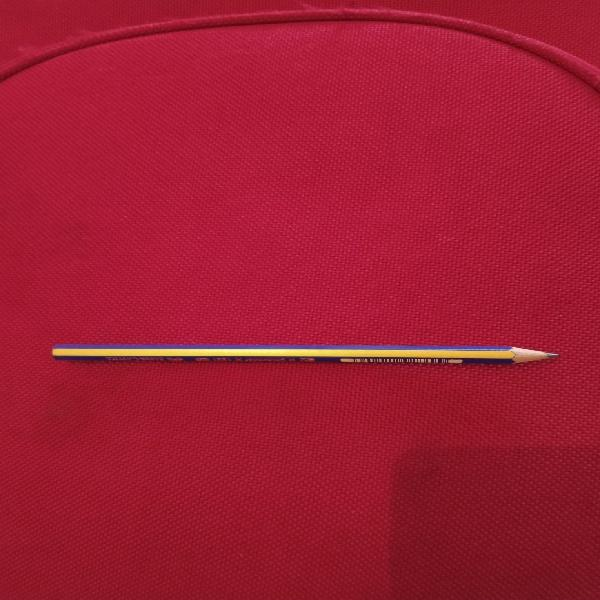pencil: (52, 344, 557, 364)
